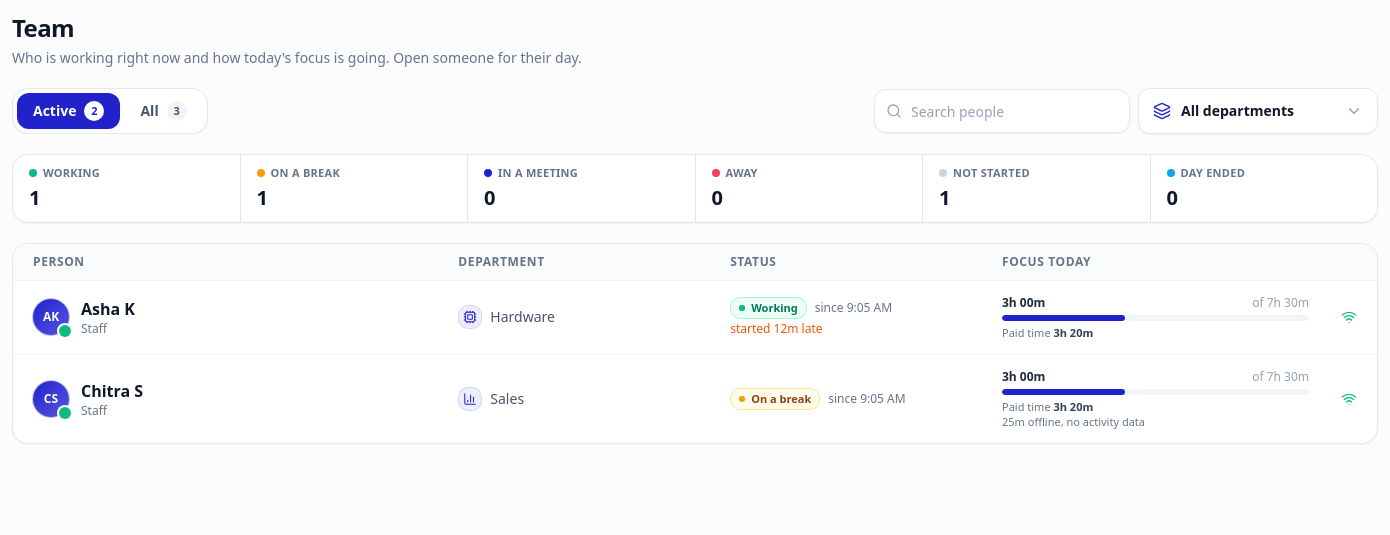
Test case: TeamView › shows everyone under All, with the counts on the tabs
Check: the list is shown, box [13,280,1377,443]
Check: the tab "Active 2" is shown, box [17,93,120,129]
Click the tab "All 3": [164, 111] box [124,93,203,129]
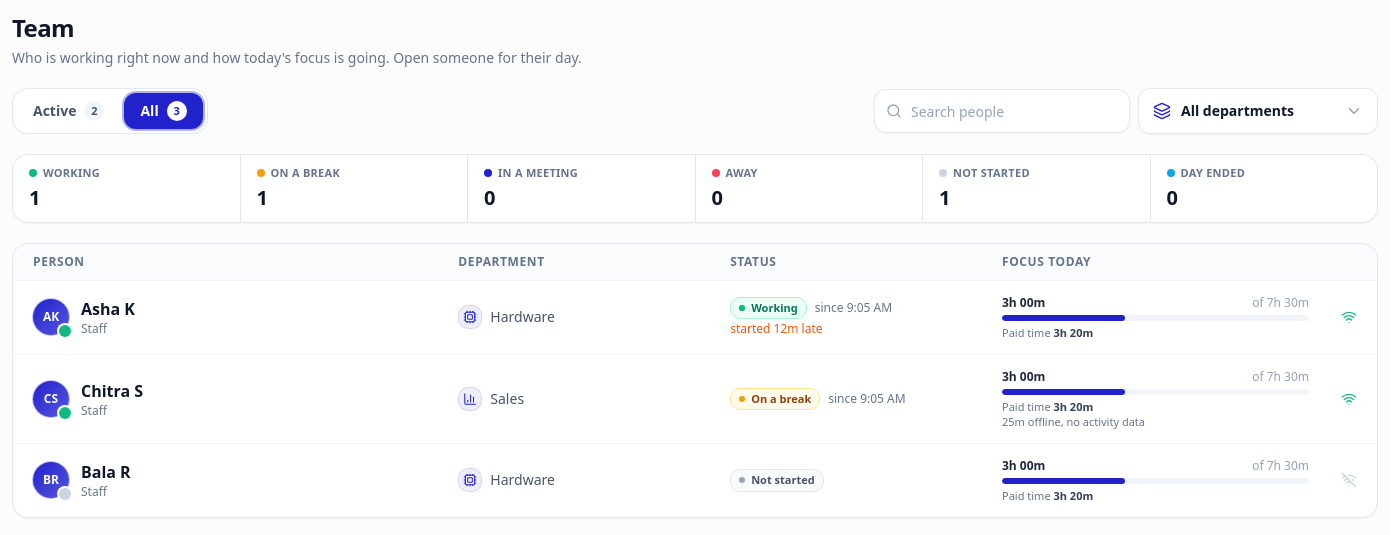
Check: the text "Bala R" is shown, box [81,461,131,483]
